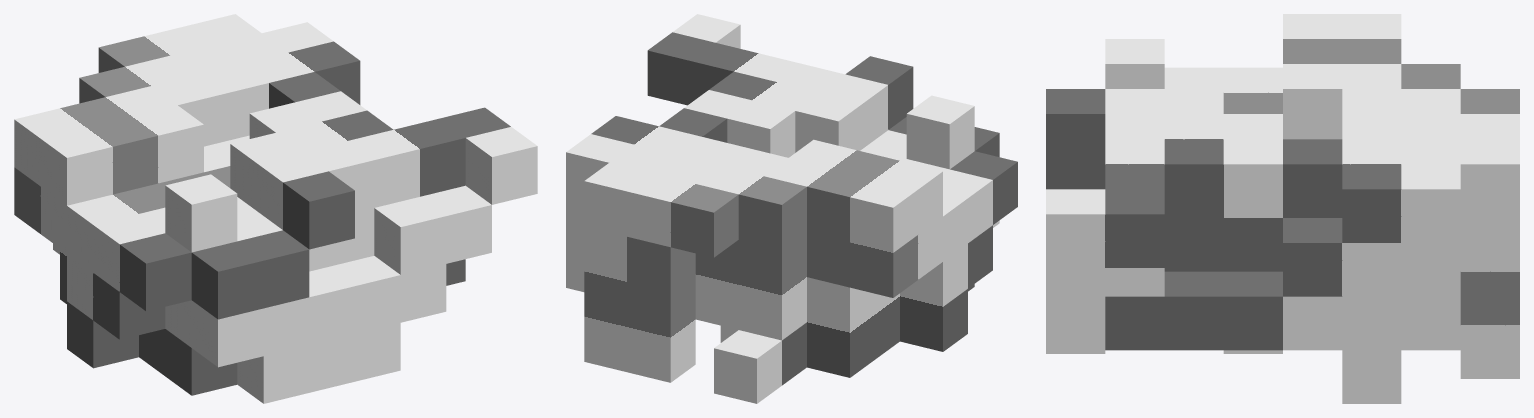
Rendered from garbage_small_satellite2.fbx.
The picture shows the model from 3 angles, left to right: view 1: azimuth 30°, elevation 25°; view 2: azimuth 150°, elevation 25°; view 3: azimuth 270°, elevation 25°; orthographic projection. The views are drawn at different scales.
Parts seen in each view (by area): view 1: garbage_small_satellite2; view 2: garbage_small_satellite2; view 3: garbage_small_satellite2.
Part boxes in pixels (x1=…): garbage_small_satellite2: x1=14, y1=14, x2=537, y2=403; garbage_small_satellite2: x1=566, y1=14, x2=1017, y2=403; garbage_small_satellite2: x1=1046, y1=14, x2=1519, y2=403.
Bounding box in the file's own units: 8 × 4 × 8.
